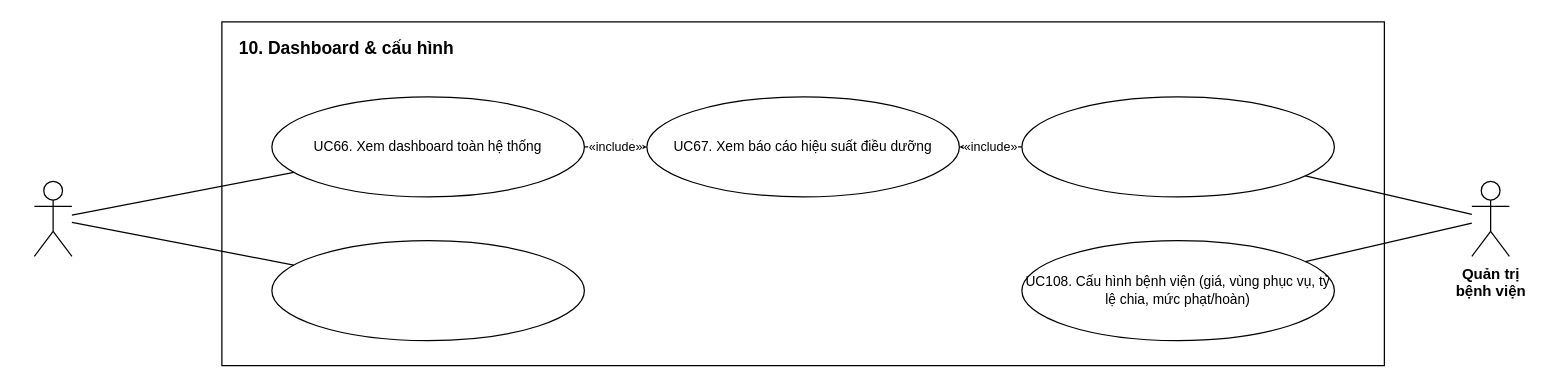
This 1548x388 diagram has some shape labels left out. The centre of each missing label's shape, as x and y in pixels:
Admin nền tảng: the point at 52,218
UC107. Xem dashboard bệnh viện: the point at 1177,146
UC109. Cấu hình tham số hệ thống (khung giờ, thời gian chờ, ngưỡng mặc định): the point at 427,290
